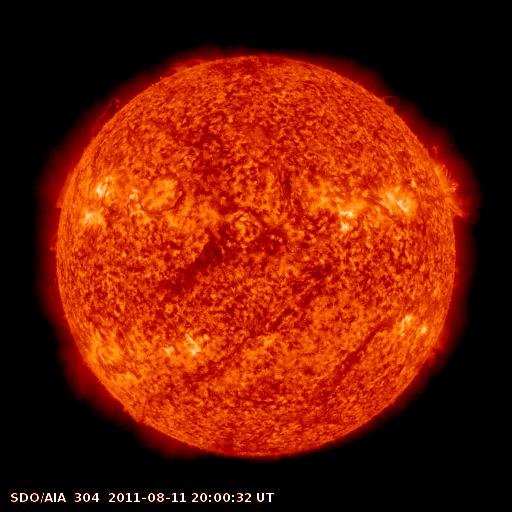prominence: (417, 320, 461, 373), (82, 90, 126, 138), (157, 52, 221, 85), (48, 155, 82, 214), (375, 84, 406, 117), (44, 224, 69, 263)
